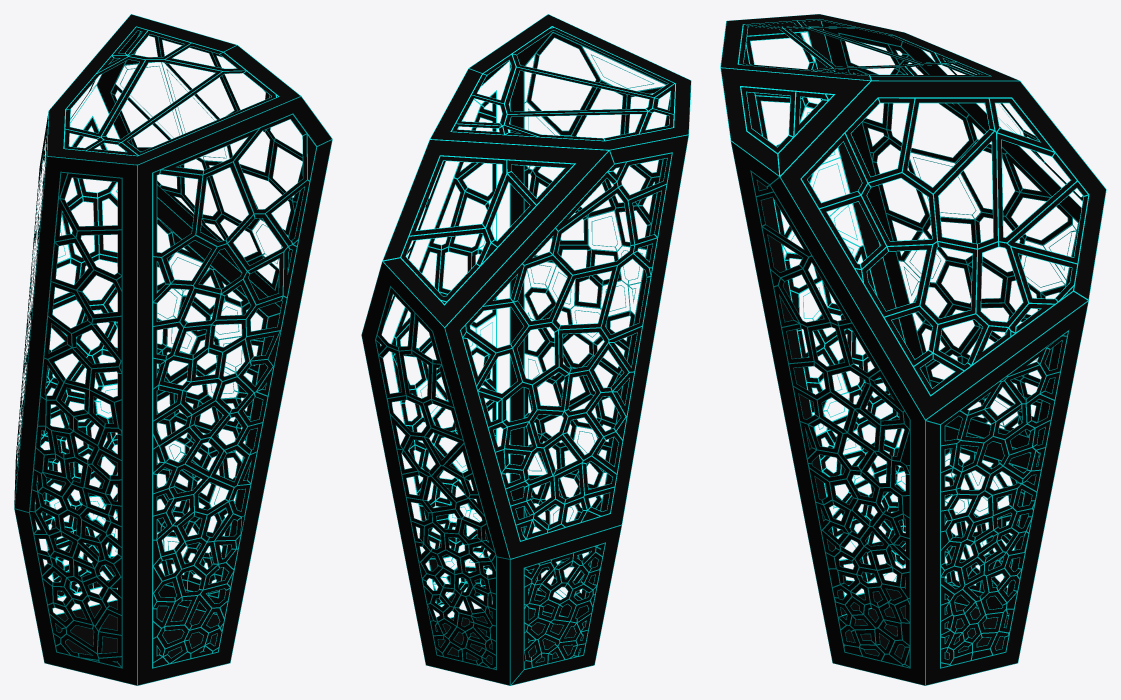
File: Crystal-257-2.fbx
3 renders of one model, left to right at view 1: azimuth 30°, elevation 25°; view 2: azimuth 150°, elevation 25°; view 3: azimuth 270°, elevation 25°, orthographic. The views are drawn at different scales.
Visible parts, largest first — view 1: subnet1; view 2: subnet1; view 3: subnet1.
Part boxes in pixels (left/top/right/bottom): subnet1: left=14, top=14, right=332, bottom=685; subnet1: left=361, top=14, right=691, bottom=685; subnet1: left=720, top=14, right=1106, bottom=685.
Size of the model in its own units: 125 by 248 by 144.
